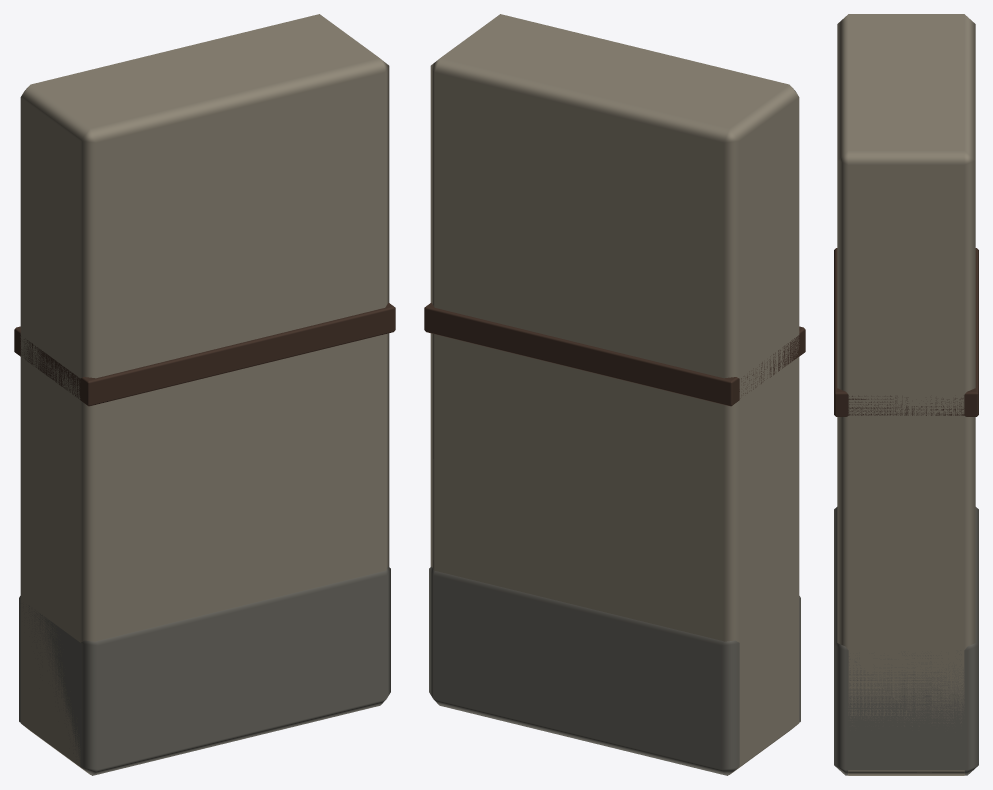
Rendered from village-wall-outer.09f1db18.glb.
The picture shows the model from 3 angles, left to right: view 1: azimuth 30°, elevation 25°; view 2: azimuth 150°, elevation 25°; view 3: azimuth 270°, elevation 25°; orthographic projection. The views are drawn at different scales.
Parts seen in each view (by area): view 1: body; view 2: body; view 3: body.
Part boxes in pixels (left/top/right/bottom): body: left=14, top=14, right=395, bottom=775; body: left=424, top=14, right=805, bottom=775; body: left=834, top=14, right=978, bottom=775.
Size of the model in its own units: 1 by 2 by 0.42.
